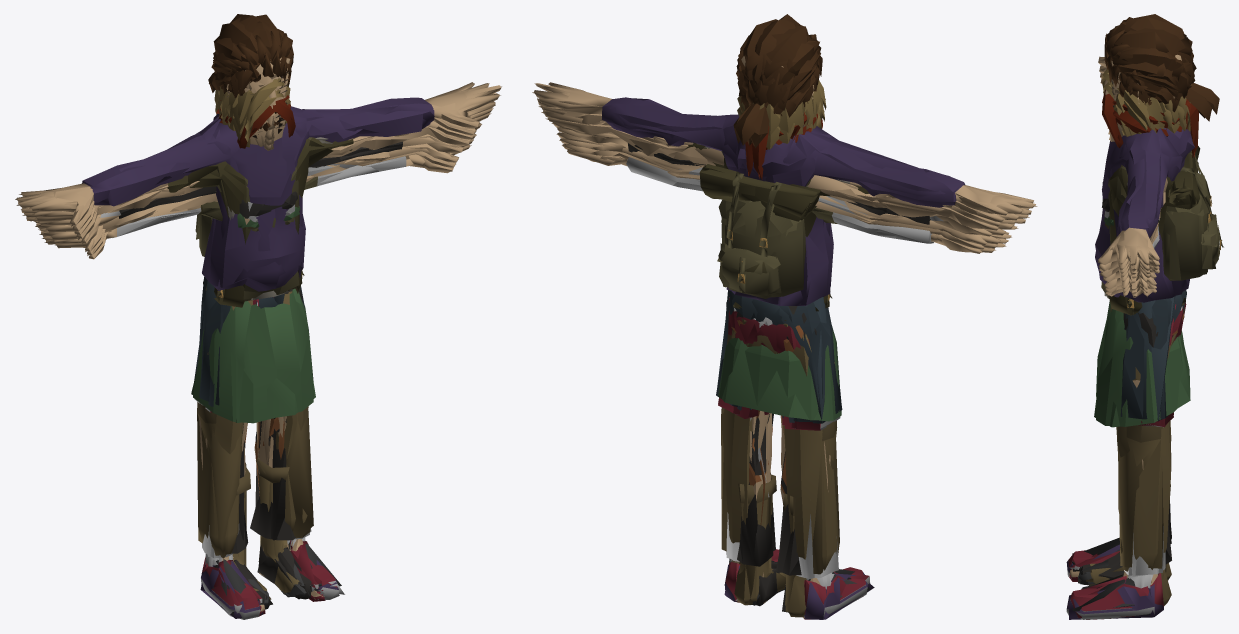
Rendered from crowd.glb.
The picture shows the model from 3 angles, left to right: view 1: azimuth 30°, elevation 25°; view 2: azimuth 150°, elevation 25°; view 3: azimuth 270°, elevation 25°; orthographic projection. The views are drawn at different scales.
Visible parts, largest first — view 1: m_hood, w_dress, m_hood_far, m_trek, m_trek_far, w_suit, w_trek, m_beach, w_suit_far, w_casual, w_dress_far, m_tee (+4 smaller); view 2: m_hood, w_trek, m_trek, m_hood_far, w_dress, w_suit, m_beach, m_tee, w_dress_far, w_trek_far, w_casual, m_beach_far (+4 smaller); view 3: m_hood, m_trek, w_dress, w_trek, m_hood_far, m_trek_far, m_tee, w_suit, w_trek_far, m_beach, w_casual, w_dress_far (+4 smaller).
Boxes of the visible parts, x1,y1,x2,y2 form: m_hood: (16,14,501,619); w_dress: (43,98,473,470); m_hood_far: (15,16,501,618); m_trek: (24,57,494,600); m_trek_far: (22,51,493,615); w_suit: (35,79,481,609); w_trek: (46,120,470,592); m_beach: (26,49,490,616); w_suit_far: (33,78,463,605); w_casual: (40,90,476,604); w_dress_far: (42,95,473,576); m_tee: (22,63,496,610); m_hood: (534,17,1035,619); w_trek: (562,144,1005,617); m_trek: (540,55,1028,597); m_hood_far: (532,14,1037,619); w_dress: (560,112,1008,502); w_suit: (552,80,1017,612); m_beach: (543,75,1024,619); m_tee: (538,65,1030,614); w_dress_far: (559,114,1008,603); w_trek_far: (562,133,1006,614); w_casual: (557,100,1011,599); m_beach_far: (541,97,1025,618); m_hood: (1066,14,1193,619); m_trek: (1072,59,1194,607); w_dress: (1096,89,1198,426); w_trek: (1089,136,1223,605); m_hood_far: (1068,14,1194,619); m_trek_far: (1072,60,1193,615); m_tee: (1068,65,1219,611); w_suit: (1078,69,1190,589); w_trek_far: (1086,120,1222,581); m_beach: (1069,33,1188,619); w_casual: (1078,82,1190,584); w_dress_far: (1094,101,1194,427).
Size of the model in its own units: 1.71 by 1.9 by 0.4719.
